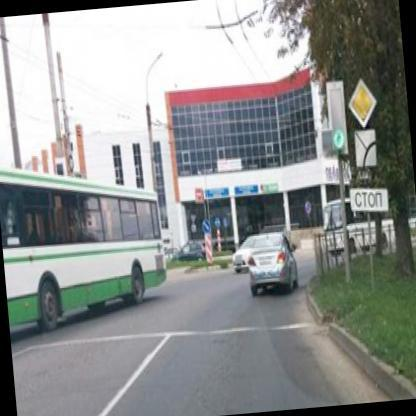road_sign: (348, 79, 376, 128), (355, 130, 376, 166), (351, 191, 388, 211), (205, 233, 211, 264), (195, 188, 203, 203), (202, 221, 210, 232)
